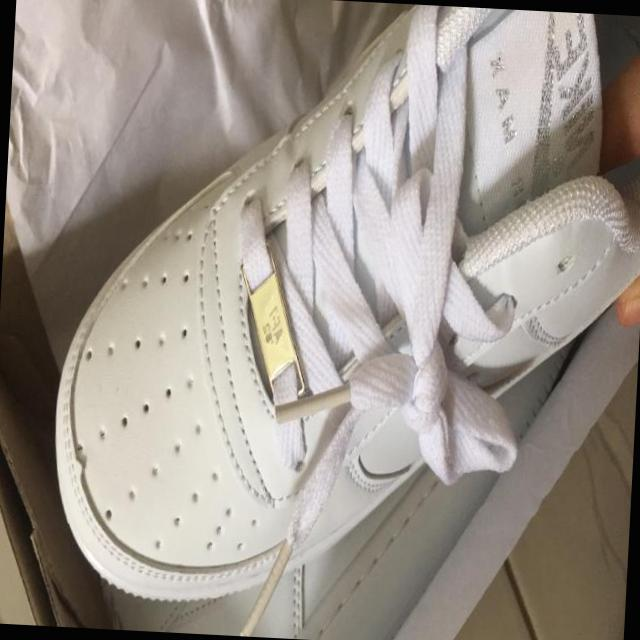nike_fake_airforce: (42, 0, 640, 631)
